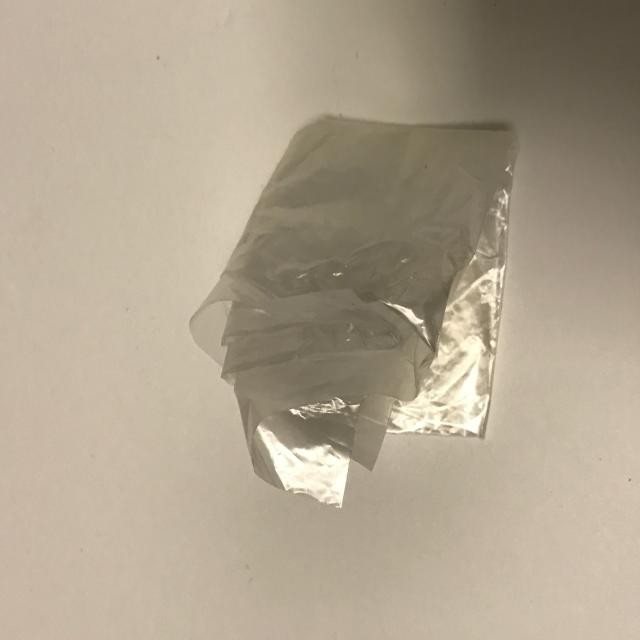trash: (188, 112, 520, 509)
